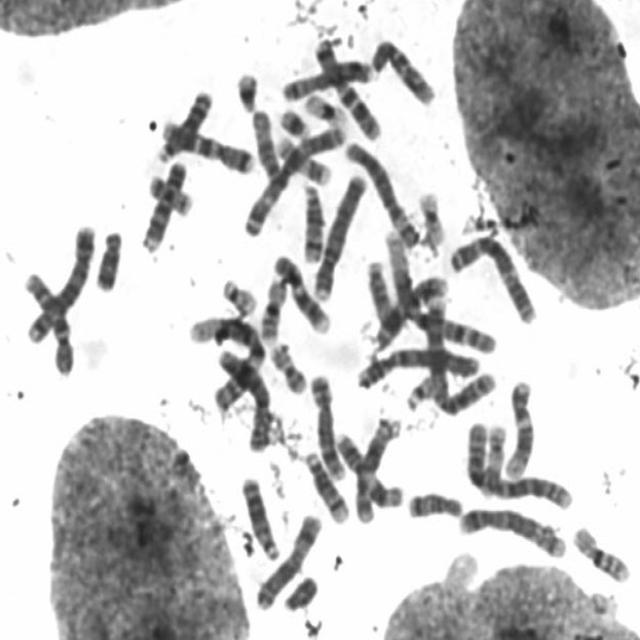A1: (377, 226, 498, 354), (183, 309, 268, 417)
A2: (415, 274, 499, 418), (462, 416, 576, 511)
A3: (240, 120, 348, 240), (445, 229, 539, 325)
B4: (308, 165, 369, 304), (352, 342, 484, 391)
B5: (22, 216, 98, 346), (452, 501, 569, 561)
C10: (17, 266, 76, 378), (367, 34, 438, 109)
C11: (332, 423, 408, 512), (372, 270, 450, 354)
C12: (349, 412, 402, 523), (500, 376, 536, 480)
C6: (341, 137, 422, 250), (215, 348, 273, 454)
C7: (309, 35, 382, 141), (158, 114, 257, 175)
C8: (306, 366, 347, 482), (277, 57, 375, 103)
C9: (269, 249, 334, 335), (138, 155, 189, 254)
D13: (154, 86, 215, 165), (238, 471, 282, 562)
D14: (301, 444, 351, 525), (297, 178, 326, 264)
D15: (362, 253, 401, 329), (250, 105, 282, 186)
E16: (567, 520, 632, 584), (254, 272, 288, 344)
E17: (273, 130, 333, 188), (478, 423, 508, 501)
E18: (404, 485, 465, 522), (92, 225, 125, 292)
F19: (413, 186, 449, 248), (301, 88, 349, 130)
F20: (143, 167, 194, 217), (265, 337, 308, 396)
G21: (231, 66, 261, 115), (276, 103, 314, 140)
G22: (217, 272, 259, 318), (402, 371, 438, 413)
X: (250, 508, 324, 612)
Y: (278, 569, 320, 613)
